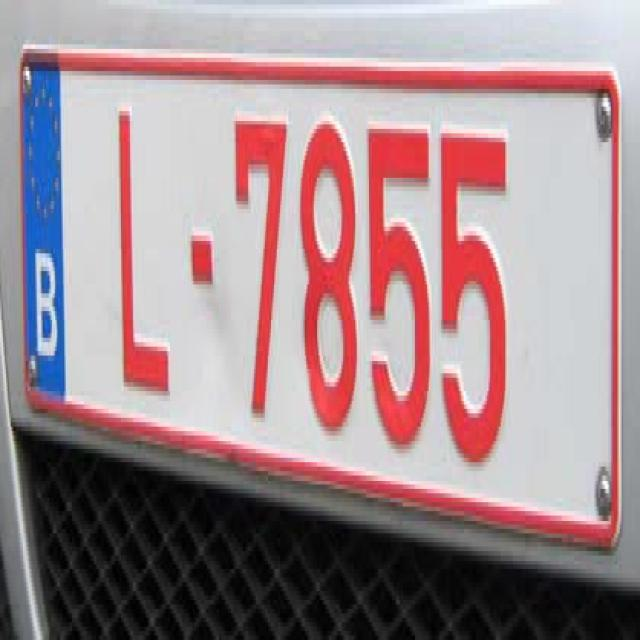Belgique: (21, 53, 65, 394)
EU: (18, 46, 618, 540)
